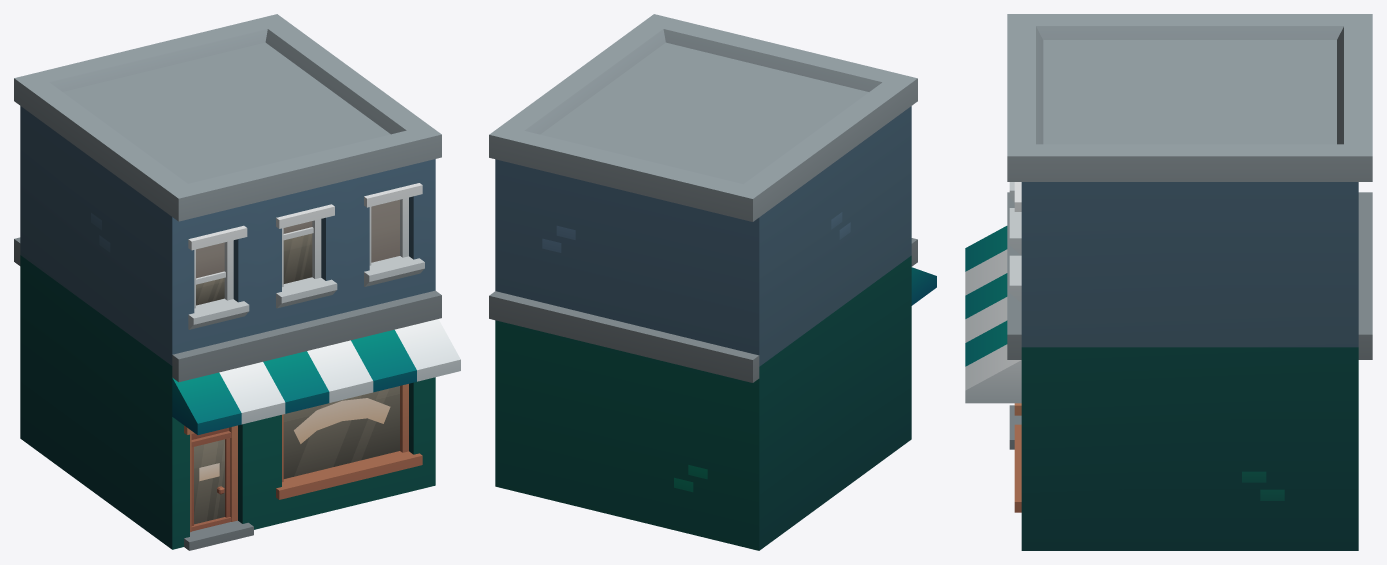
Rendered from building_A_withoutBase.obj.
The picture shows the model from 3 angles, left to right: view 1: azimuth 30°, elevation 25°; view 2: azimuth 150°, elevation 25°; view 3: azimuth 270°, elevation 25°; orthographic projection. The views are drawn at different scales.
Size of the model in its own units: 1.21 by 1.55 by 1.45.
1 material, 1 textured.
